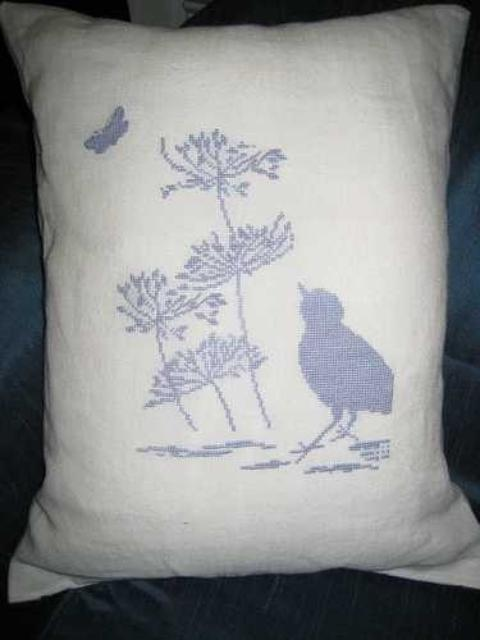pillow: (0, 1, 478, 596)
